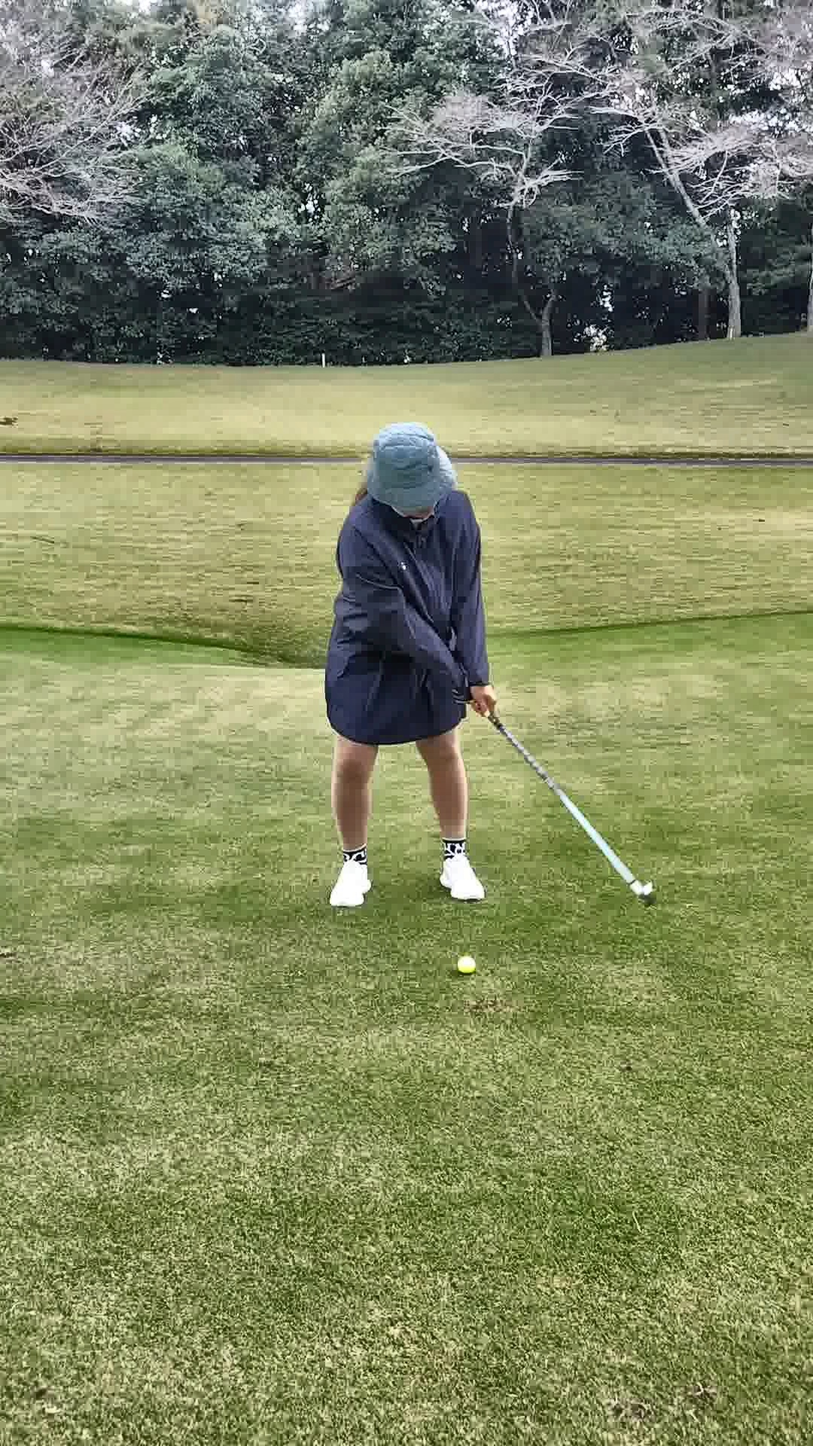clubhead: (541, 803, 757, 987)
